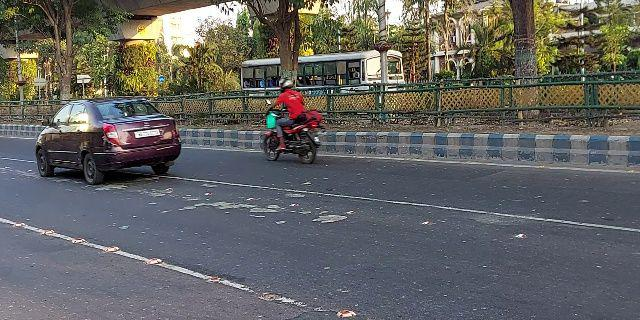Car: (32, 93, 182, 185)
Motorbike: (260, 80, 324, 168)
